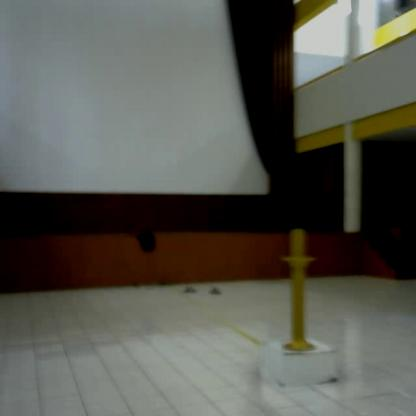pole: (275, 227, 324, 362)
